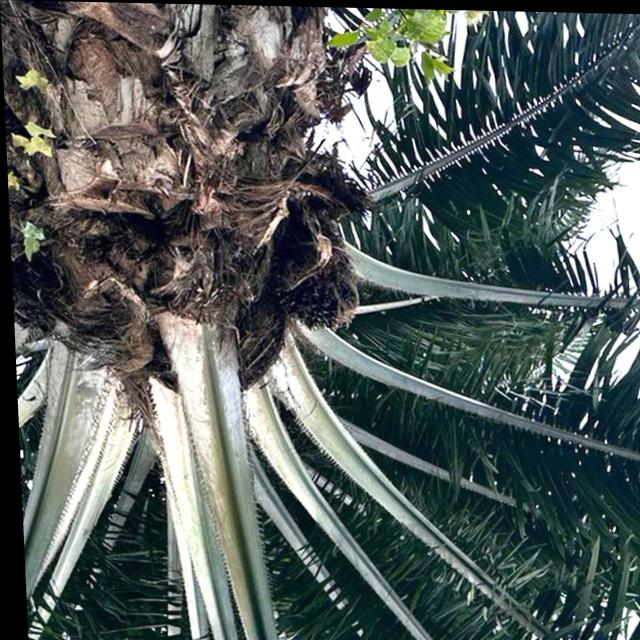almost: (279, 240, 361, 332)
